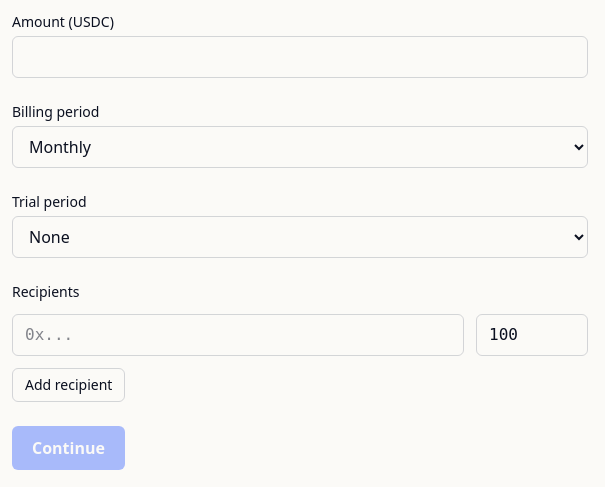
Scenario: PlanDetailsForm › disables Continue when a single recipient's percentage is not 100
Type "20.00" into the field labelled "Amount (USDC)" at (300, 57), box [12, 36, 588, 78]
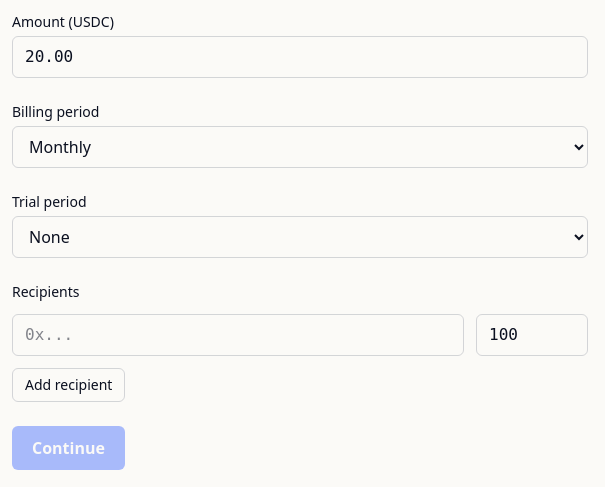
Type "0xdef000000000000000000000000000000000000b" into the field named "address" at (238, 335), box [12, 314, 464, 356]
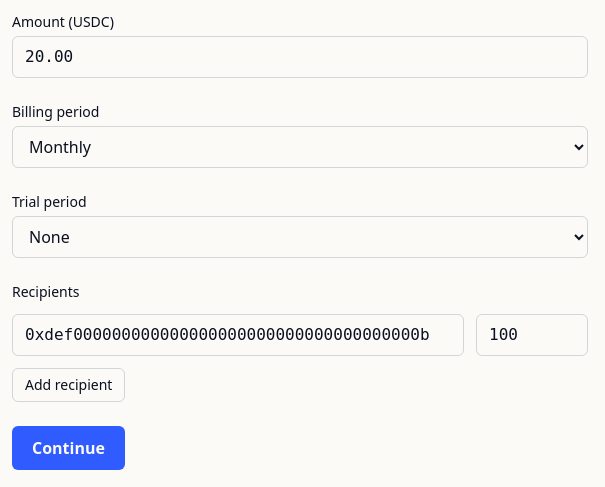
Replace the text in the 2nd field named "percentage" with "90" at (532, 335), box [476, 314, 588, 356]
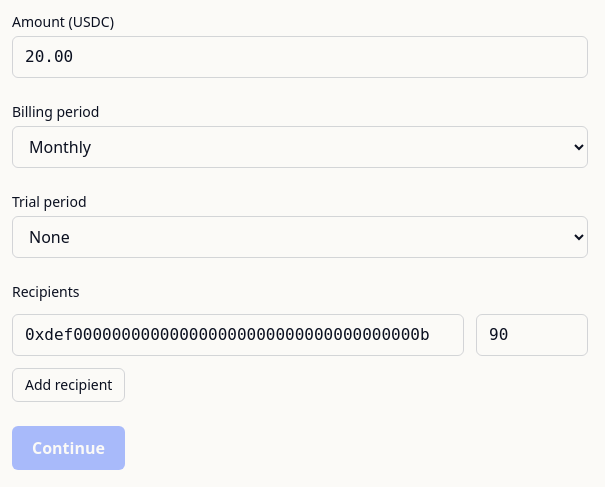
Result: the button "Continue" is disabled at [12, 426, 125, 470]
